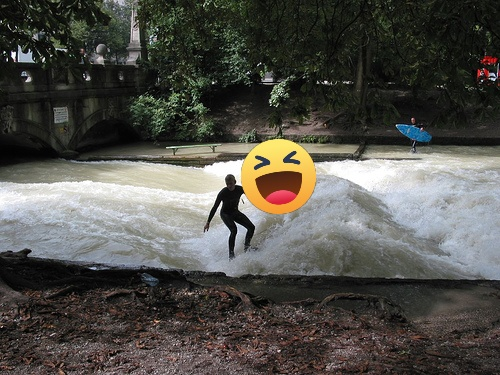haha: (241, 139, 316, 214)
